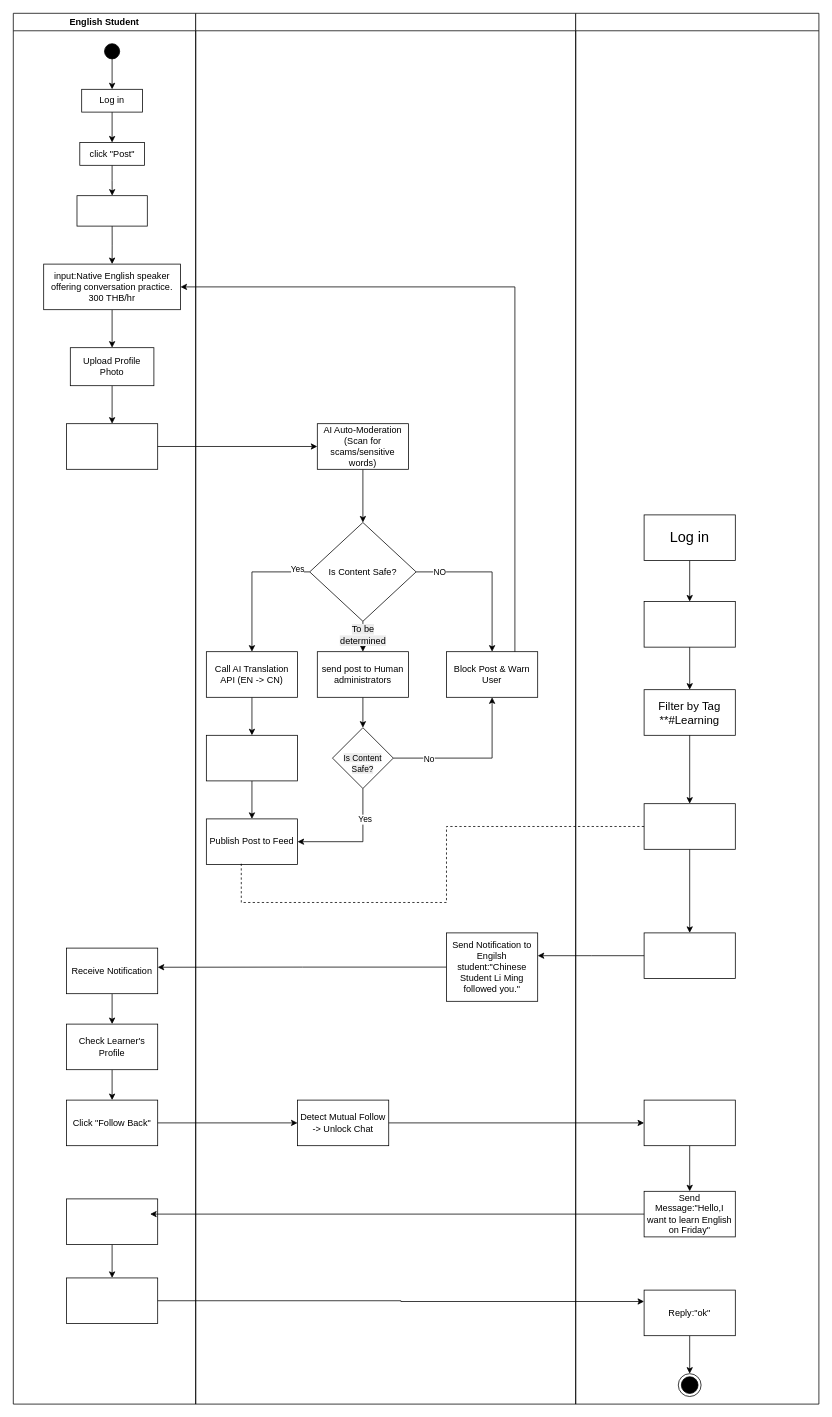
Some shapes in this 832 by 1417 pixel diagram are drawn without their labels. The box of each missing label's shape, as (x1, y1, x2, y2) in pixels:
Browse Feed: (643, 601, 735, 647)
Chinese Student: (575, 13, 819, 1404)
Click "Follow" English Student: (643, 932, 735, 978)
Click "Message" Button: (643, 1099, 735, 1146)
Click :"Publish Now": (66, 423, 158, 469)
Reply:"ok,let's meet in somewhere": (66, 1277, 158, 1324)
See Message: (66, 1198, 158, 1244)
Select tab #Learning: (76, 195, 147, 226)
System: (195, 13, 576, 1404)
translation Content Engilsh->Chinese: (206, 735, 298, 781)
View English Student's Post (Displayed in Chinese): (643, 803, 735, 849)
